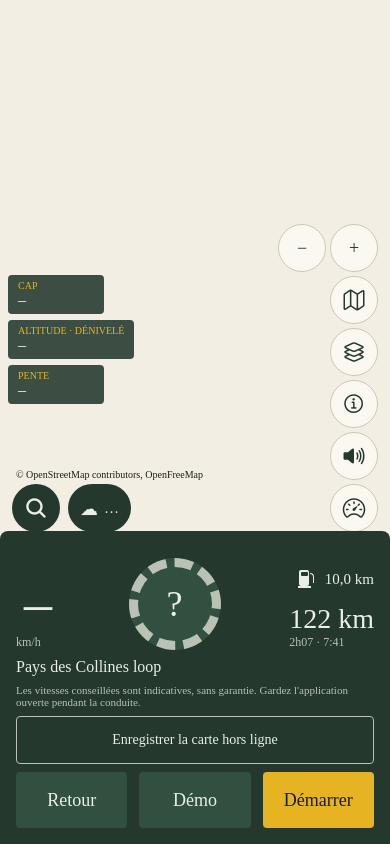
the fuel chip, card and words are in French in French
This screenshot has width=390, height=844.
Click the button with test id "fuel-chip": [335, 579] box [297, 555, 374, 603]
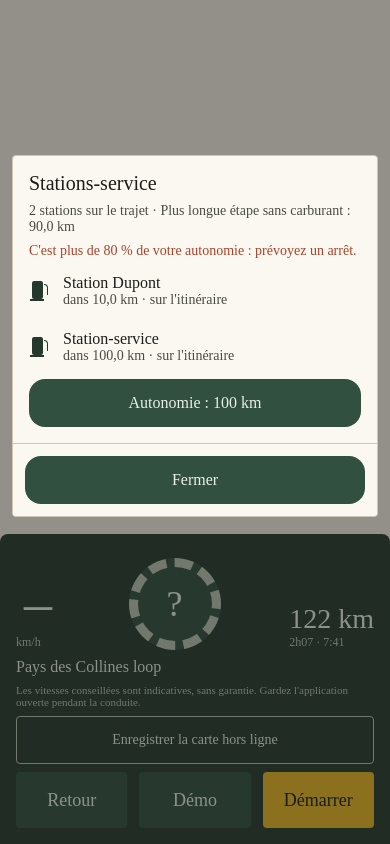
expect the text "Stations-service" is shown: met, box [29, 172, 157, 194]
expect the text "2 stations sur le trajet · Plus longue étape sans carburant : " is shown: met, box [29, 203, 354, 234]
expect the button with aria-label "Autonomie : 100 km. Touchez pour changer" is shown: met, box [29, 379, 361, 427]
